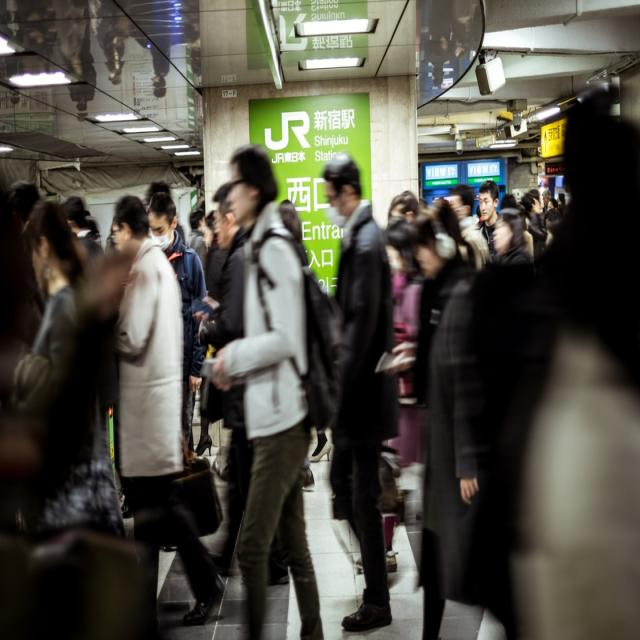body: (197, 140, 352, 639), (514, 96, 636, 638), (109, 193, 230, 632), (0, 0, 478, 99), (383, 194, 480, 640), (317, 153, 403, 635), (21, 198, 130, 543), (195, 180, 251, 582), (145, 190, 209, 470), (379, 216, 426, 577), (62, 194, 117, 480), (278, 198, 332, 463), (194, 208, 230, 458), (0, 178, 49, 360), (499, 162, 570, 266), (447, 182, 492, 276), (137, 174, 184, 243), (483, 206, 533, 268), (382, 190, 446, 238), (476, 178, 501, 258), (186, 206, 206, 281), (475, 203, 484, 230)
